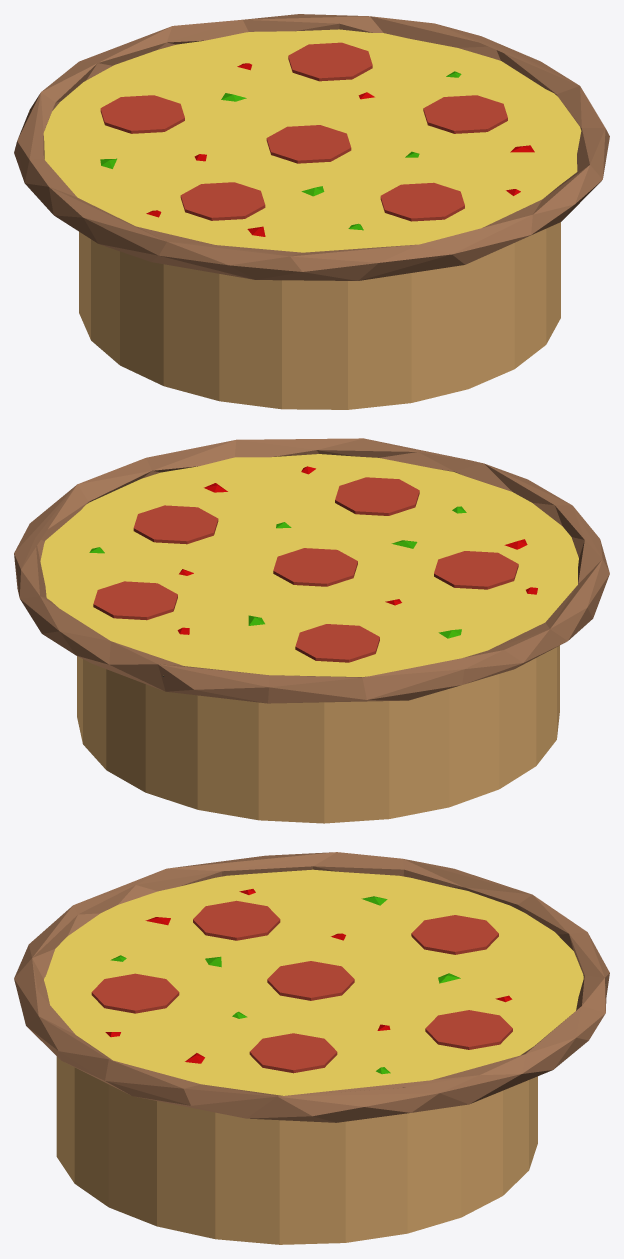
File: kapa pica.fbx
3 views of the same model, one above another, from view 1: azimuth 30°, elevation 25°; view 2: azimuth 150°, elevation 25°; view 3: azimuth 270°, elevation 25° (orthographic).
Parts seen in each view (by area): view 1: Pizza, Cylinder.001; view 2: Pizza, Cylinder.001; view 3: Pizza, Cylinder.001.
Boxes of the visible parts, x1=… form: Pizza: x1=14, y1=14, x2=609, y2=280; Cylinder.001: x1=79, y1=222, x2=560, y2=409; Pizza: x1=14, y1=438, x2=609, y2=703; Cylinder.001: x1=77, y1=645, x2=559, y2=823; Pizza: x1=14, y1=852, x2=609, y2=1122; Cylinder.001: x1=56, y1=1056, x2=537, y2=1244.
Bounding box in the file's own units: 166 × 52.08 × 166.
Materials: 2 (1 with a texture image).
